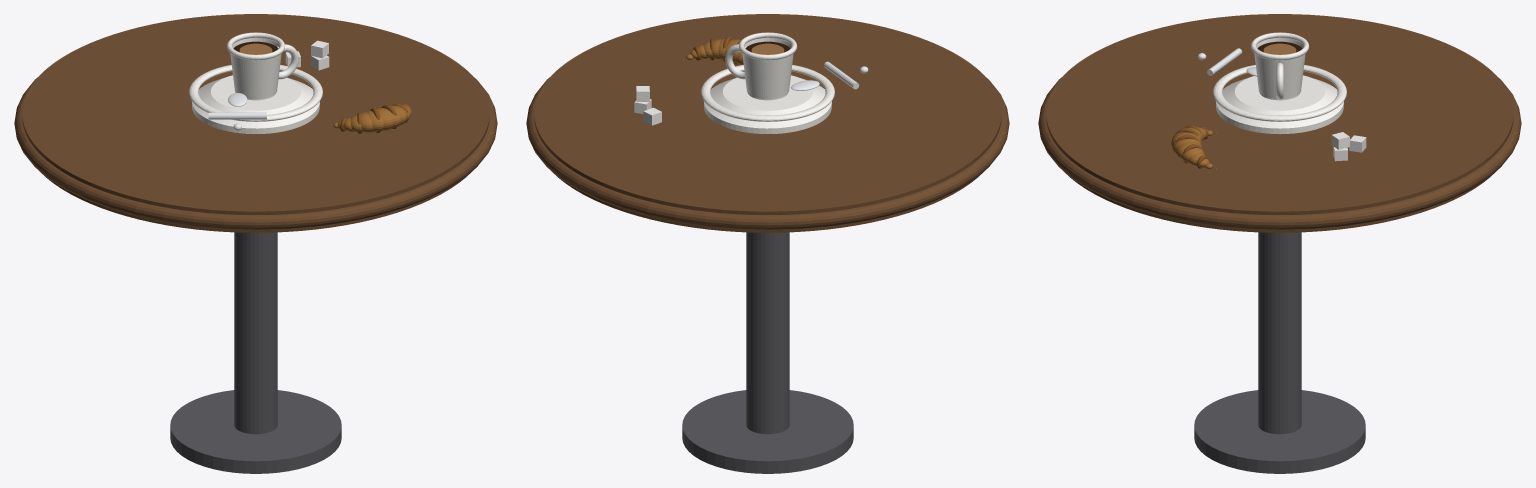
3 views of the same model, side by side, from view 1: azimuth 30°, elevation 25°; view 2: azimuth 150°, elevation 25°; view 3: azimuth 270°, elevation 25° (orthographic).
Visible parts, largest first — view 1: TableTop, TableFoot, TableLeg, TableEdge, SaucerRim, CupBody, SaucerLip, SaucerBase, CupRim; view 2: TableTop, TableFoot, TableLeg, TableEdge, SaucerRim, CupBody, SaucerLip, SaucerBase, CupRim; view 3: TableTop, TableFoot, TableLeg, TableEdge, SaucerRim, SaucerLip, CupBody, SaucerBase, CupRim.
Boxes of the visible parts, x1,y1,x2,y2 form: TableTop: (22,14,489,232); TableFoot: (170,390,341,473); TableLeg: (234,232,277,434); TableEdge: (14,77,497,229); SaucerRim: (192,75,319,128); CupBody: (230,38,281,99); SaucerLip: (189,65,322,121); SaucerBase: (192,102,319,133); CupRim: (226,32,285,60); TableTop: (534,14,1001,232); TableFoot: (682,390,853,473); TableLeg: (746,232,789,434); TableEdge: (526,77,1009,229); SaucerRim: (704,75,831,128); CupBody: (742,38,793,99); SaucerLip: (701,65,834,121); SaucerBase: (704,102,831,133); CupRim: (738,32,797,60); TableTop: (1046,14,1513,232); TableFoot: (1194,390,1365,473); TableLeg: (1258,232,1301,434); TableEdge: (1038,77,1521,229); SaucerRim: (1216,75,1343,128); SaucerLip: (1213,65,1346,121); CupBody: (1254,38,1305,98); SaucerBase: (1216,102,1343,134); CupRim: (1250,32,1309,60).
Size of the model in its own units: 0.62 by 0.5575 by 0.62.
